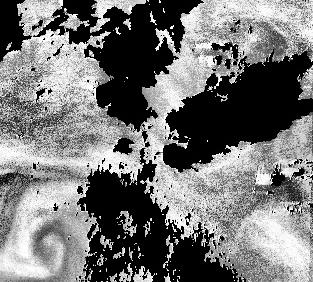CE: (31, 223, 71, 264)
